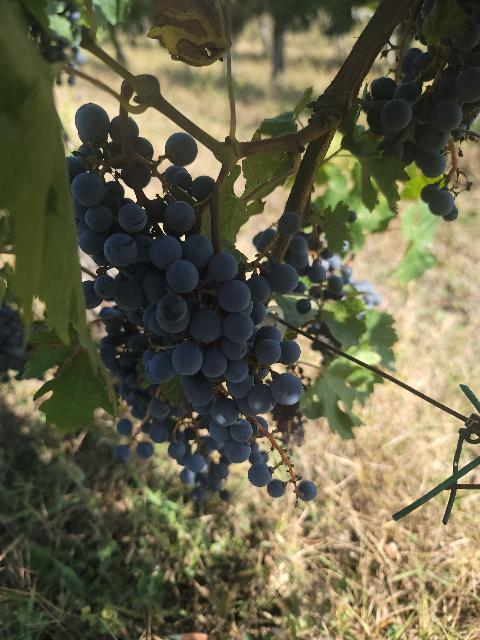grapes: (68, 104, 395, 502), (369, 0, 480, 221)
